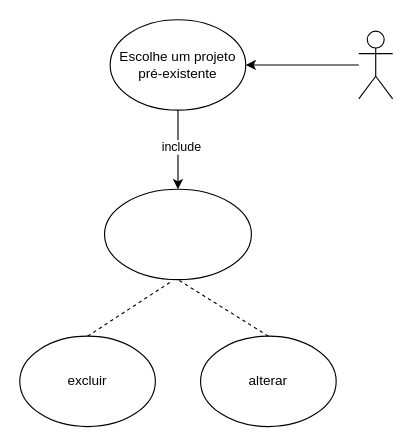
Some shapes in this 412 by 446 pixel diagram are drawn without their labels. The centre of each missing label's shape, as x and y in pixels:
"Faz alterações no projeto" belongs at point 177,234.
"Host" belongs at point 375,64.
